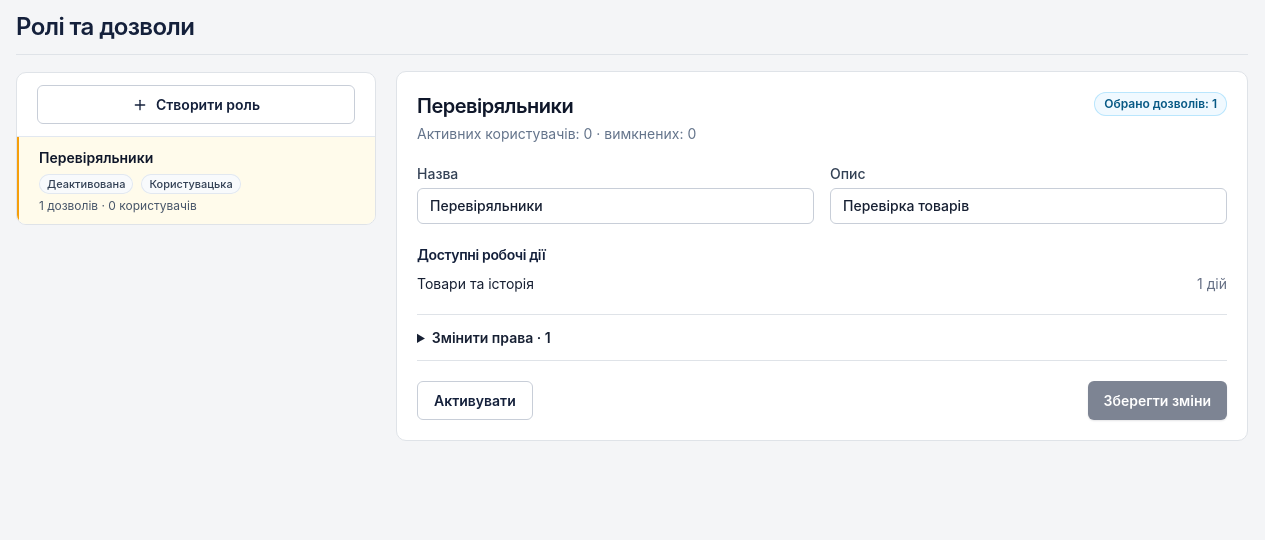
Test case: reactivates using the current version and keeps write success distinct from a failed refresh
Expected: the list named "Ролі" is shown, [17, 137, 375, 224]
Click the button "Активувати" at (475, 400), box [417, 381, 533, 420]
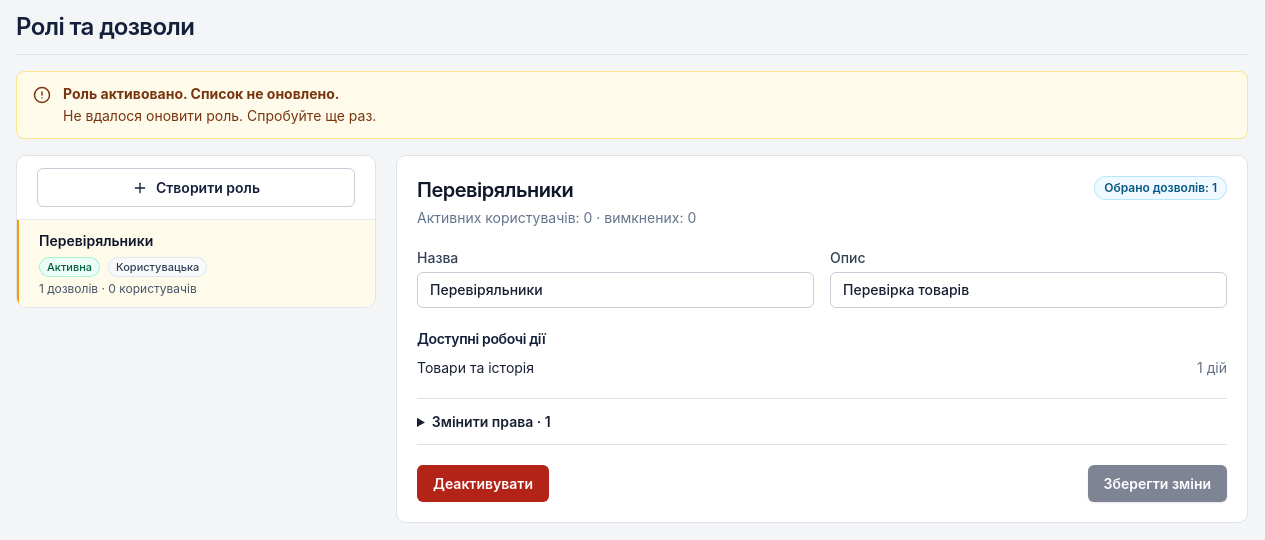
Expected: the button "Деактивувати" is enabled, [417, 465, 549, 502]
Expected: the text "Роль активовано. Список не оновлено." is shown, [63, 85, 340, 102]
